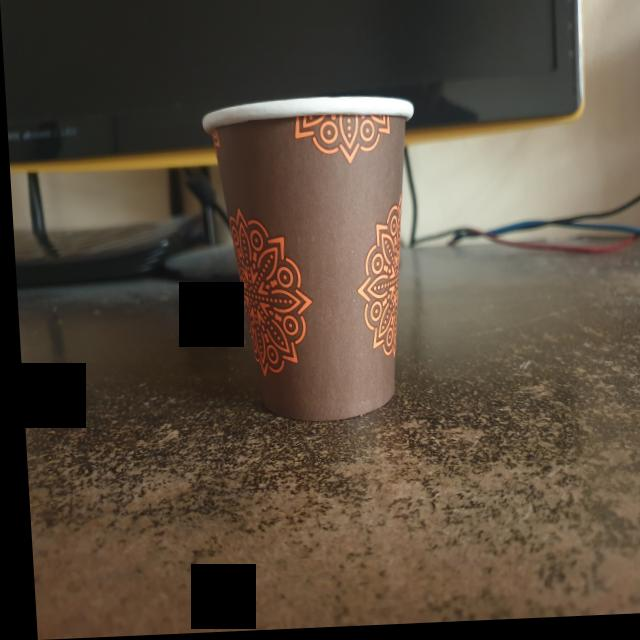cups: (201, 92, 434, 430)
